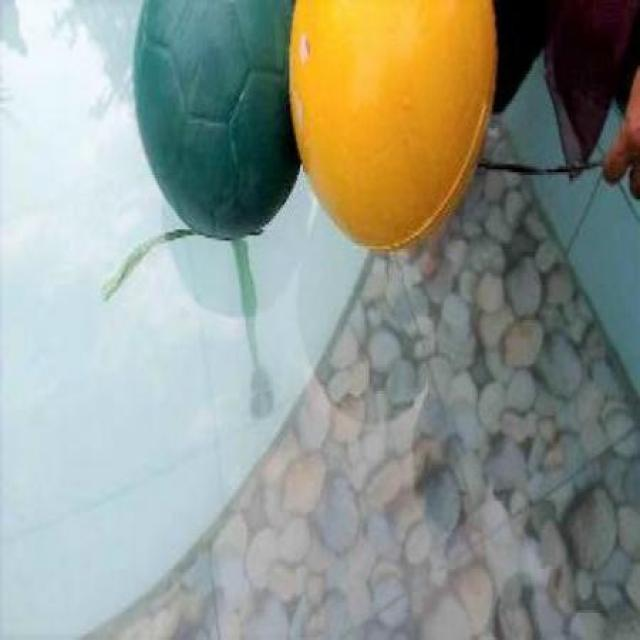buoy: (288, 2, 497, 250), (130, 0, 300, 240)
